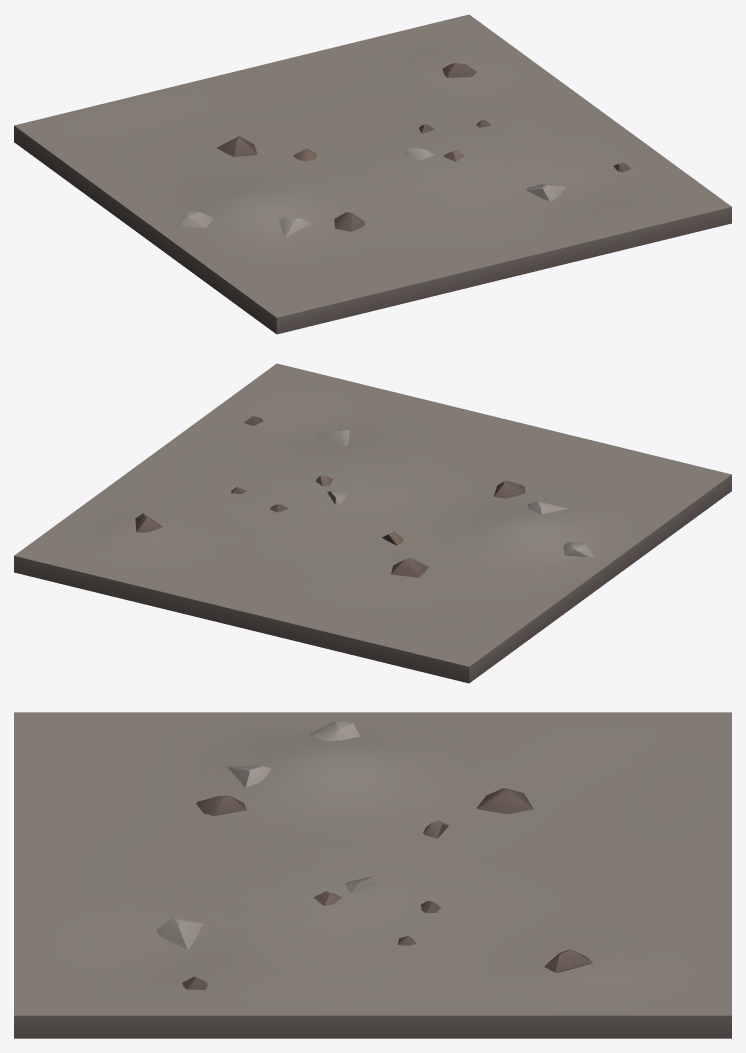
Rendered from floor_cave_large_E.glb.
3 views of the same model, one above another, from view 1: azimuth 30°, elevation 25°; view 2: azimuth 150°, elevation 25°; view 3: azimuth 270°, elevation 25° (orthographic). The views are drawn at different scales.
Visible parts, largest first — view 1: Item; view 2: Item; view 3: Item.
Boxes of the visible parts, box(x1,y1,x2,y2) form: Item: box(14, 14, 731, 334); Item: box(14, 363, 731, 683); Item: box(14, 712, 731, 1038).
Size of the model in its own units: 4 by 0.2485 by 4.
1 material, 1 textured.
